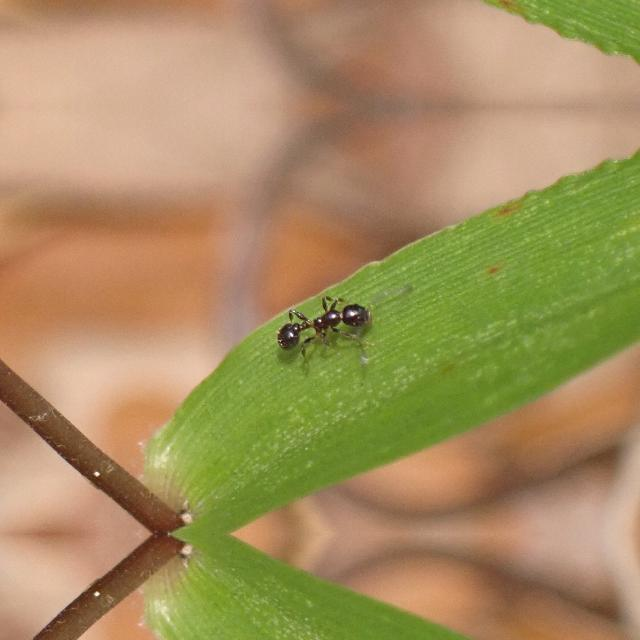Temnothorax: (259, 290, 383, 358)
